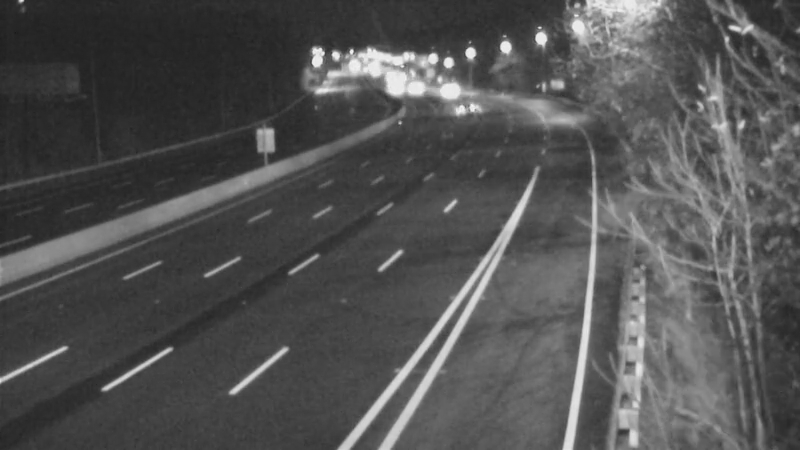vehicle: (423, 61, 473, 111), (441, 82, 491, 132)
